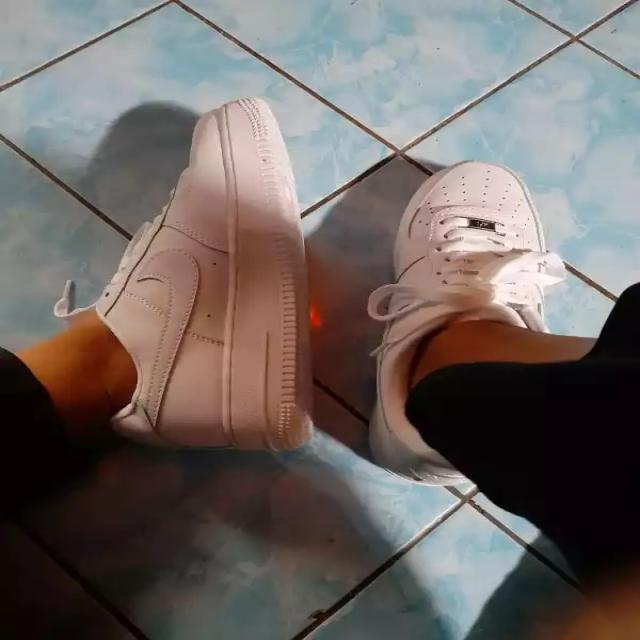nike fake air force: (79, 92, 312, 450), (364, 161, 556, 484)
